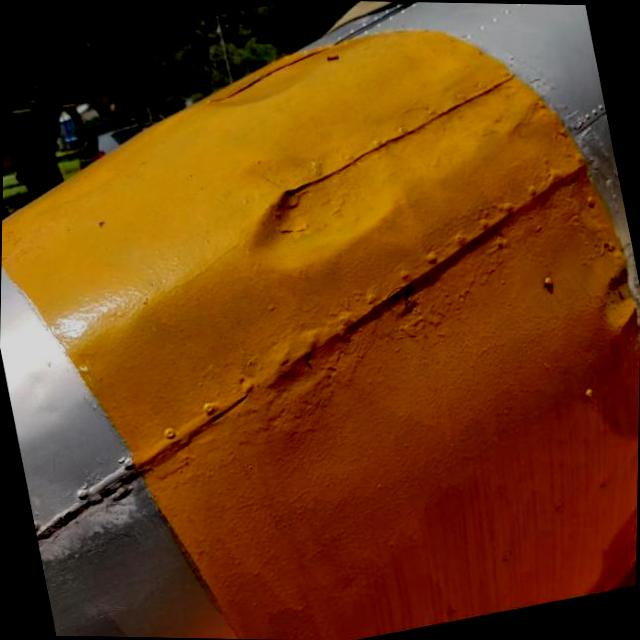dent: (240, 140, 412, 280), (588, 256, 640, 327)
